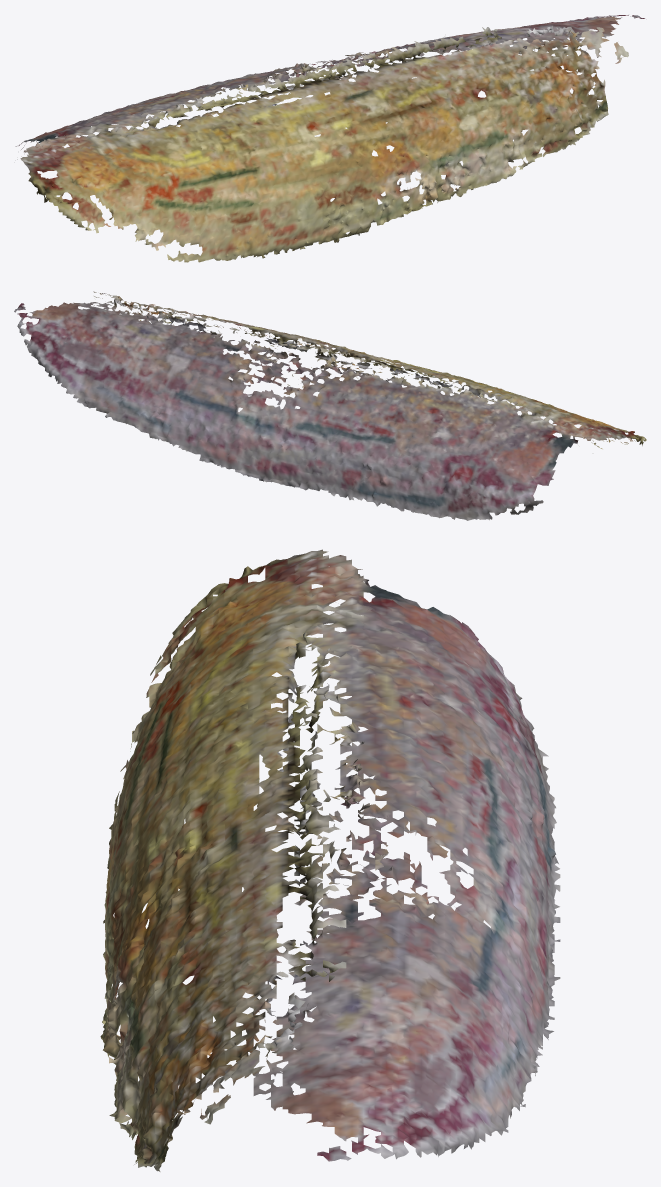
The model's file is red_solace_surface.glb.
3 renders of one model, top to bottom at view 1: azimuth 30°, elevation 25°; view 2: azimuth 150°, elevation 25°; view 3: azimuth 270°, elevation 25°, orthographic. The views are drawn at different scales.
Visible parts, largest first — view 1: world; view 2: world; view 3: world.
Boxes of the visible parts, x1,y1,x2,y2 form: world: [15, 15, 644, 262]; world: [14, 291, 646, 520]; world: [100, 549, 560, 1171].
Bounding box in the file's own units: 7.24 × 1.38 × 2.38.
